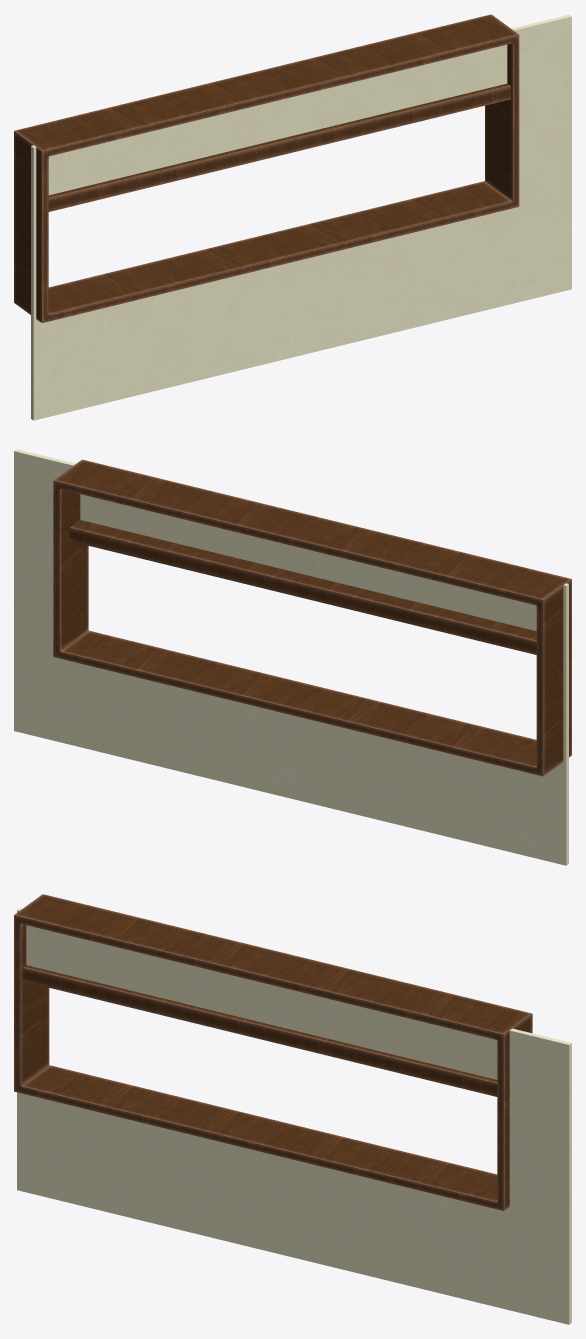
The model's file is Wall_Side.fbx.
3 renders of one model, top to bottom at view 1: azimuth 30°, elevation 25°; view 2: azimuth 150°, elevation 25°; view 3: azimuth 330°, elevation 25°, orthographic. The views are drawn at different scales.
Visible parts, largest first — view 1: Wall_Side; view 2: Wall_Side; view 3: Wall_Side.
Boxes of the visible parts, x1=… form: Wall_Side: x1=14, y1=14, x2=571, y2=420; Wall_Side: x1=14, y1=449, x2=571, y2=865; Wall_Side: x1=14, y1=894, x2=571, y2=1324.
Bounding box in the file's own units: 500 × 242 × 45.12.
